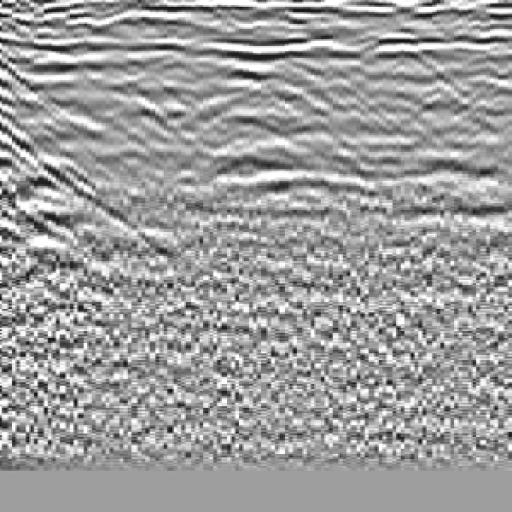metalic: (165, 37, 338, 271)
nonmetalic: (1, 41, 97, 307)
